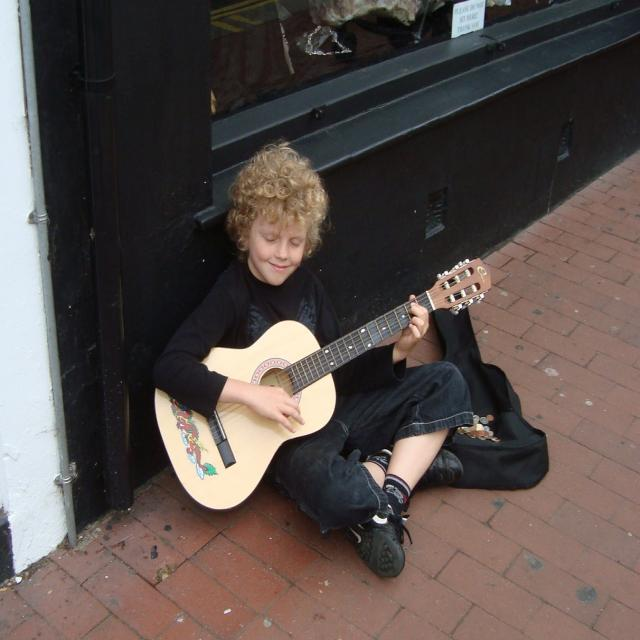guitar: (155, 255, 493, 515)
